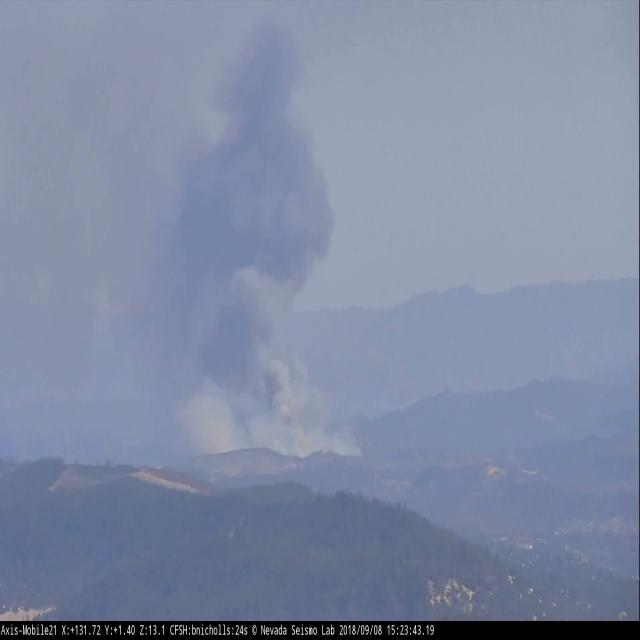smoke: (171, 0, 363, 457)
